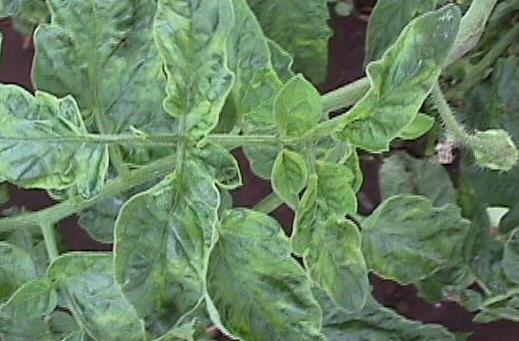Tomato leaf mosaic virus: (114, 154, 222, 341), (336, 0, 462, 151), (211, 202, 344, 341), (0, 74, 103, 193), (148, 0, 238, 131), (295, 161, 368, 316), (360, 195, 482, 281), (51, 0, 137, 97), (274, 72, 324, 143), (2, 280, 60, 327)
